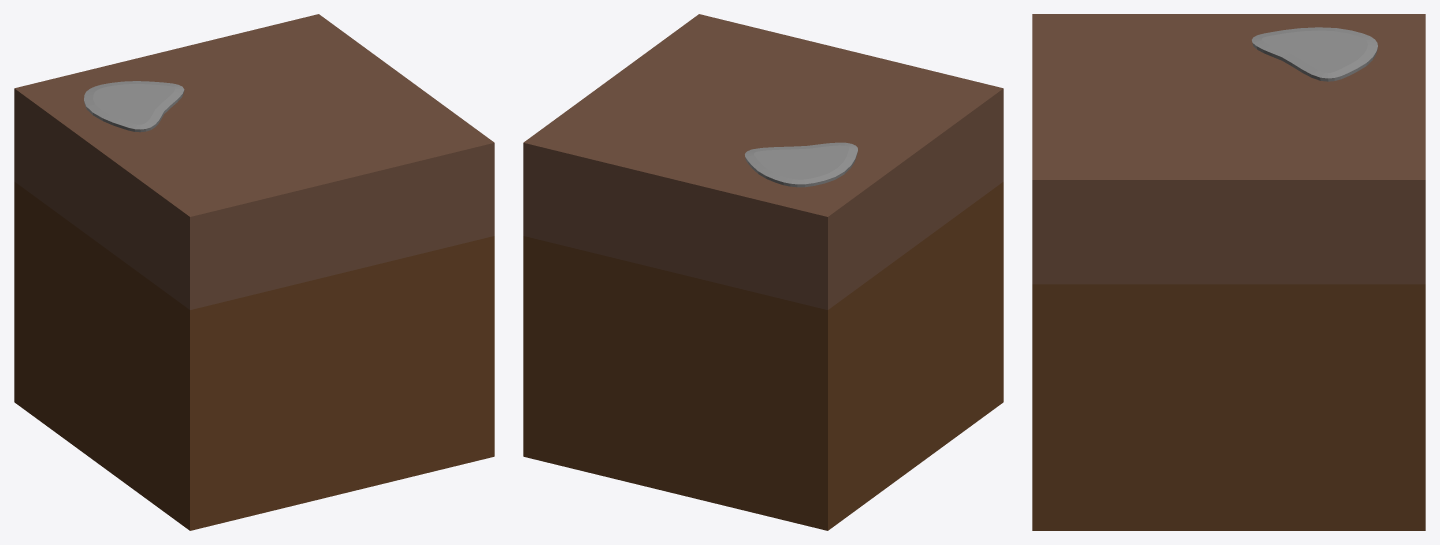
The model's file is Ground 3.fbx.
3 renders of one model, left to right at view 1: azimuth 30°, elevation 25°; view 2: azimuth 150°, elevation 25°; view 3: azimuth 270°, elevation 25°, orthographic. The views are drawn at different scales.
Parts seen in each view (by area): view 1: Ground 3; view 2: Ground 3; view 3: Ground 3.
Boxes of the visible parts, left/top/right/bottom form: Ground 3: left=14, top=14, right=494, bottom=530; Ground 3: left=523, top=14, right=1003, bottom=530; Ground 3: left=1032, top=14, right=1425, bottom=530.
Bounding box in the file's own units: 200 × 200 × 200.
